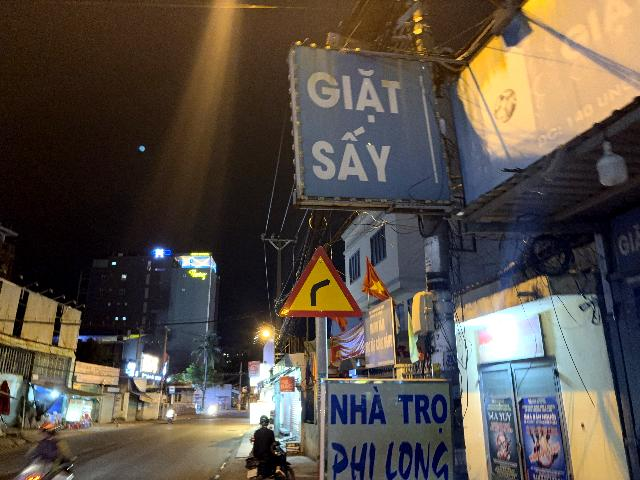cho-ngoat-nguy-hiem-ben-phai: (279, 244, 363, 316)
